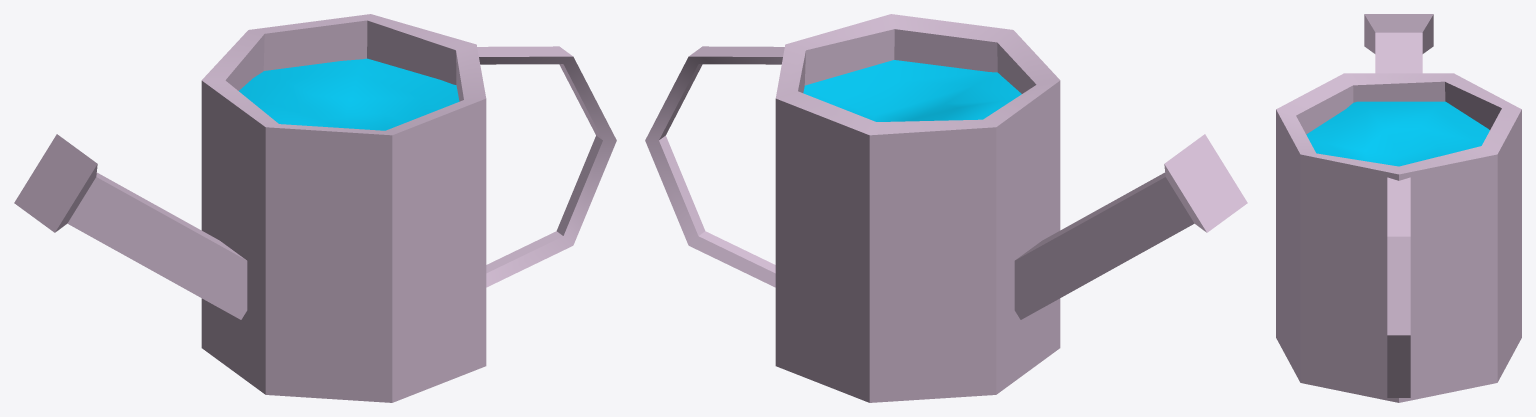
Rendered from WateringCan.fbx.
3 views of the same model, side by side, from view 1: azimuth 30°, elevation 25°; view 2: azimuth 150°, elevation 25°; view 3: azimuth 270°, elevation 25° (orthographic). The views are drawn at different scales.
Visible parts, largest first — view 1: gieter, water; view 2: gieter, water; view 3: gieter, water.
Boxes of the visible parts, x1,y1,x2,y2 form: gieter: (14, 14, 616, 402); water: (239, 58, 459, 130); gieter: (645, 14, 1247, 402); water: (803, 60, 1021, 121); gieter: (1276, 14, 1521, 402); water: (1306, 101, 1489, 166).
Size of the model in its own units: 93.7 by 42.19 by 40.59.
